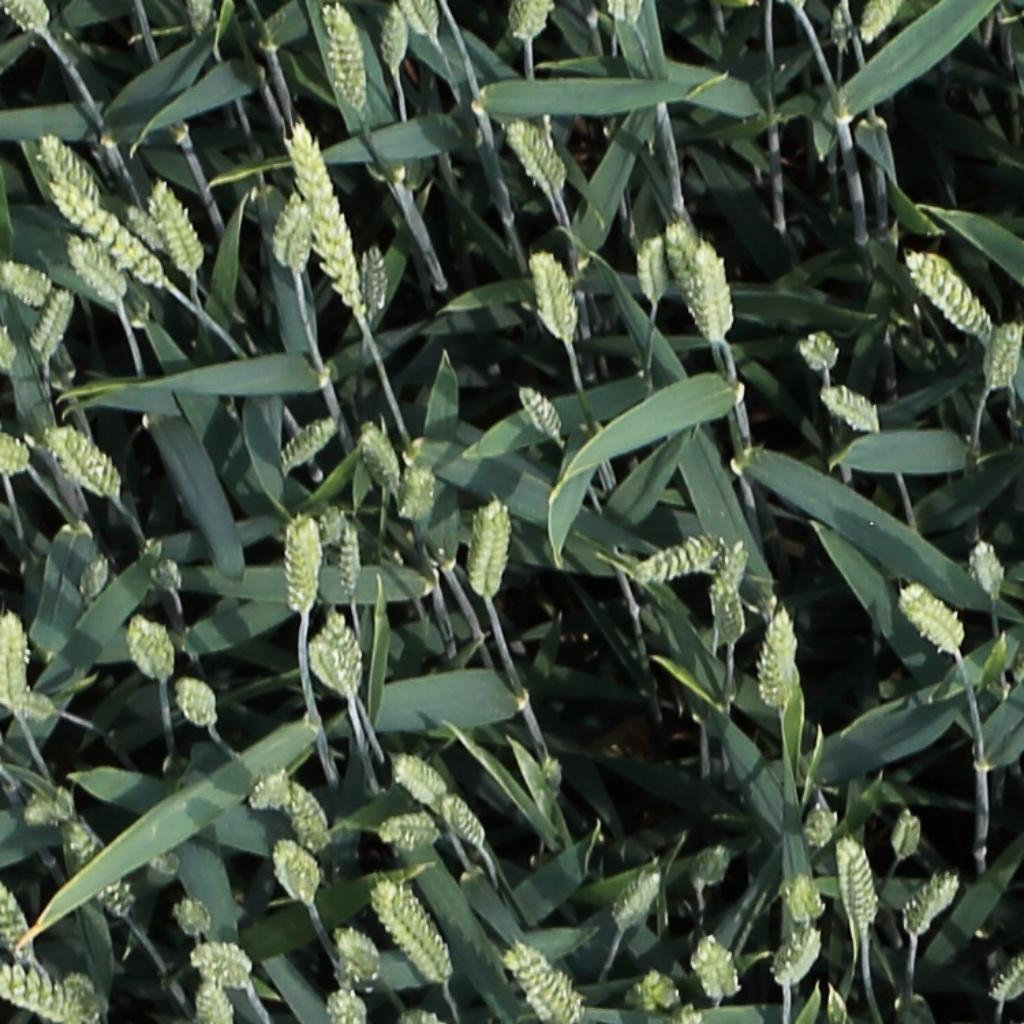0-0: (286, 122, 367, 315), (45, 181, 167, 288), (372, 879, 459, 993), (72, 827, 152, 933), (653, 211, 717, 342), (904, 243, 992, 332), (629, 525, 738, 592), (897, 575, 972, 661), (0, 939, 80, 1019), (507, 942, 584, 1022), (753, 602, 805, 716), (278, 510, 330, 620), (148, 176, 204, 278), (388, 749, 463, 825), (527, 246, 584, 345), (36, 126, 105, 206), (463, 500, 517, 602), (46, 425, 121, 498), (693, 234, 737, 346), (324, 4, 368, 114), (708, 535, 750, 650), (688, 929, 750, 1005), (506, 116, 567, 193), (269, 417, 338, 484), (184, 936, 257, 996), (65, 233, 125, 305), (312, 618, 364, 701), (902, 868, 961, 940), (278, 778, 331, 856), (772, 918, 826, 993), (28, 281, 76, 365), (611, 866, 667, 937), (267, 188, 311, 275), (817, 384, 887, 438), (514, 378, 569, 446), (841, 835, 877, 933), (372, 809, 450, 854), (439, 791, 492, 857), (357, 420, 406, 491), (684, 837, 733, 906), (275, 839, 323, 909), (128, 613, 172, 686), (16, 781, 76, 833), (334, 925, 380, 991), (0, 614, 29, 717), (984, 316, 1022, 393), (0, 876, 32, 965), (120, 200, 173, 253), (969, 533, 1006, 607), (634, 966, 682, 1018), (173, 677, 219, 730), (789, 869, 826, 933), (191, 973, 237, 1024), (402, 460, 435, 528), (858, 0, 903, 49), (61, 969, 103, 1021), (1, 0, 57, 39), (641, 225, 667, 308), (0, 262, 53, 301), (339, 517, 363, 603), (325, 981, 372, 1024), (76, 550, 111, 607), (382, 1, 408, 76), (988, 950, 1024, 1004), (249, 767, 292, 812), (894, 805, 924, 869), (0, 429, 36, 481), (363, 238, 387, 315), (806, 802, 839, 857), (173, 894, 211, 940), (402, 0, 442, 43), (801, 329, 842, 370), (516, 0, 552, 46), (605, 0, 650, 36), (6, 690, 58, 720), (155, 550, 185, 599), (831, 0, 856, 58), (185, 0, 214, 45), (0, 307, 15, 367)
